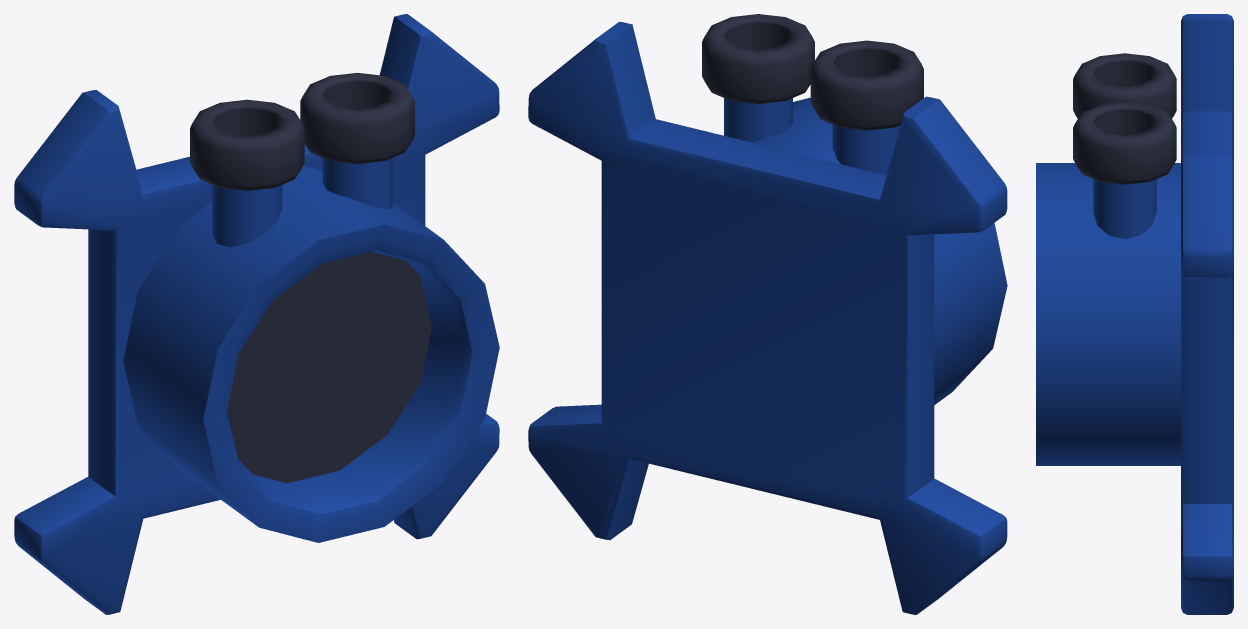
The model's file is Cooling_systems_lvl_02_V07.fbx.
3 views of the same model, side by side, from view 1: azimuth 30°, elevation 25°; view 2: azimuth 150°, elevation 25°; view 3: azimuth 270°, elevation 25° (orthographic). The views are drawn at different scales.
Visible parts, largest first — view 1: Procesor_Cooling_lvl_08; view 2: Procesor_Cooling_lvl_08; view 3: Procesor_Cooling_lvl_08.
Boxes of the visible parts, x1,y1,x2,y2 form: Procesor_Cooling_lvl_08: [14, 14, 499, 614]; Procesor_Cooling_lvl_08: [528, 14, 1007, 614]; Procesor_Cooling_lvl_08: [1036, 14, 1233, 614].
Size of the model in its own units: 44.66 by 46.75 by 18.29.
